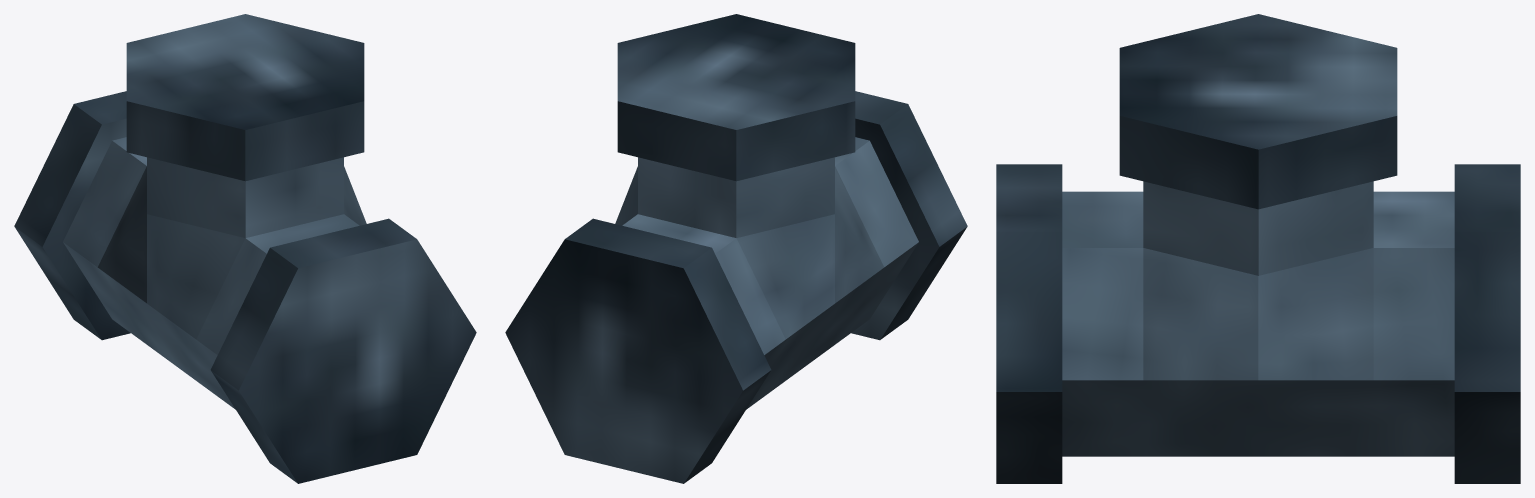
File: MESH_PIPE_MEDIUM_3_002.fbx
3 renders of one model, left to right at view 1: azimuth 30°, elevation 25°; view 2: azimuth 150°, elevation 25°; view 3: azimuth 270°, elevation 25°, orthographic. The views are drawn at different scales.
Parts seen in each view (by area): view 1: MESH_PIPE_MEDIUM_3.002; view 2: MESH_PIPE_MEDIUM_3.002; view 3: MESH_PIPE_MEDIUM_3.002.
Boxes of the visible parts, box(x1,y1,x2,y2) form: MESH_PIPE_MEDIUM_3.002: box(14, 14, 476, 483); MESH_PIPE_MEDIUM_3.002: box(505, 14, 967, 483); MESH_PIPE_MEDIUM_3.002: box(996, 14, 1520, 483).
Bounding box in the file's own units: 0.3067 × 0.3882 × 0.5011.
